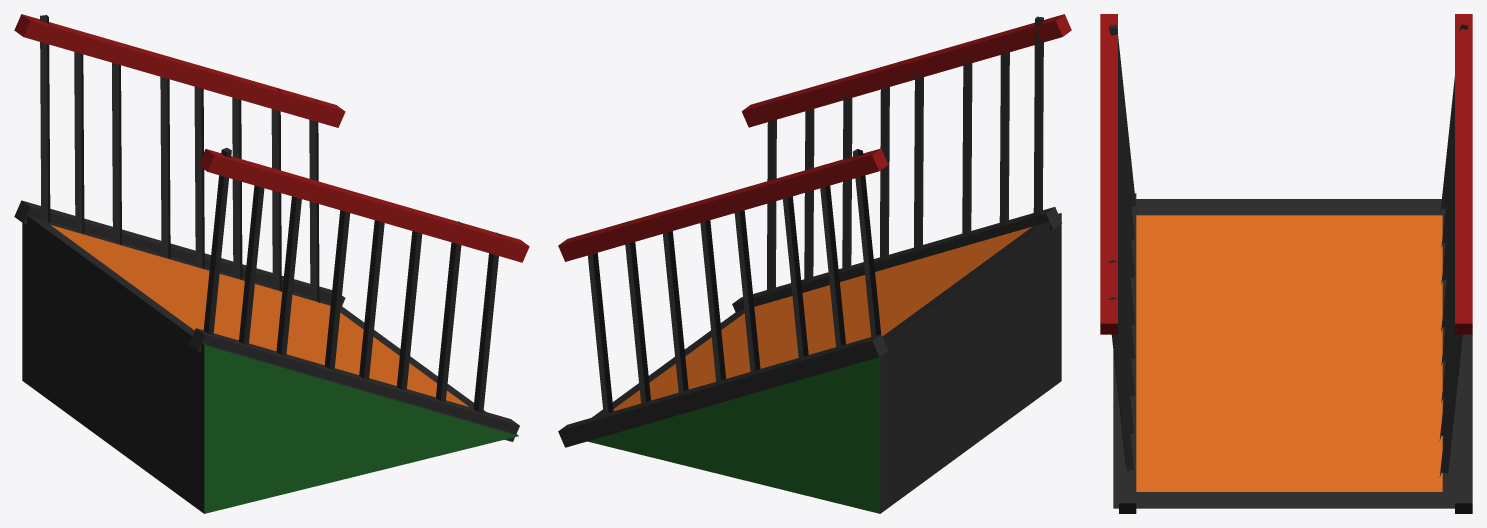
Rendered from MOD_EstradeC.FBX.
3 renders of one model, left to right at view 1: azimuth 30°, elevation 25°; view 2: azimuth 150°, elevation 25°; view 3: azimuth 270°, elevation 25°, orthographic. The views are drawn at different scales.
Visible parts, largest first — view 1: MOD_PLAFONDA004; view 2: MOD_PLAFONDA004; view 3: MOD_PLAFONDA004.
Part boxes in pixels (bbox=[...]): MOD_PLAFONDA004: bbox=[14, 14, 529, 513]; MOD_PLAFONDA004: bbox=[558, 14, 1071, 513]; MOD_PLAFONDA004: bbox=[1100, 14, 1472, 513].
Bounding box in the file's own units: 1.02 × 1.12 × 1.06.
